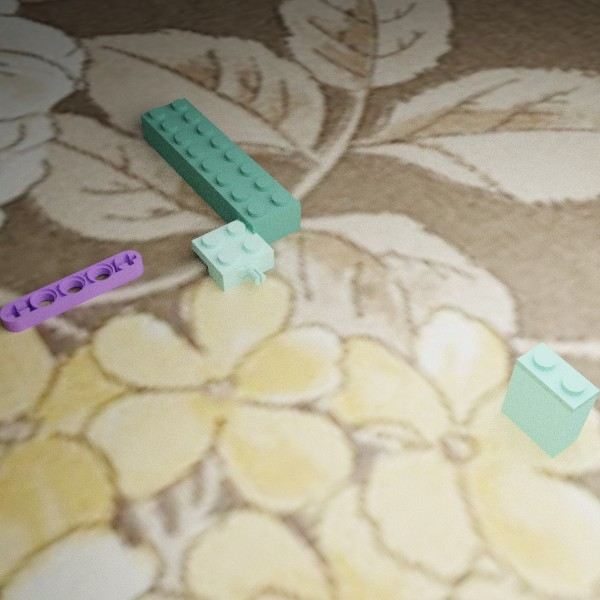lego: (140, 97, 300, 251), (0, 250, 143, 332), (500, 342, 600, 458), (191, 217, 274, 291)
